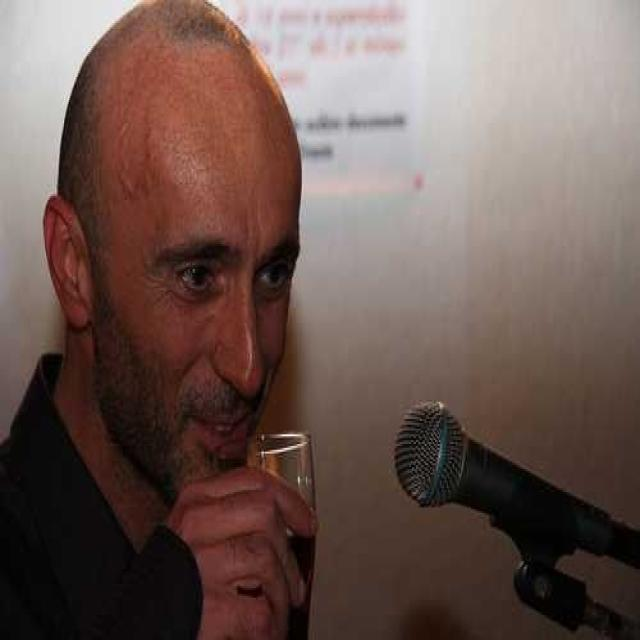microphone: (392, 396, 634, 584)
